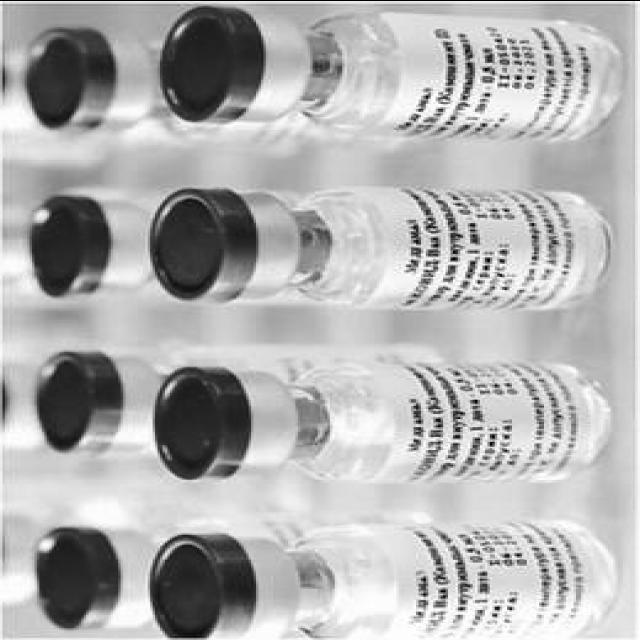vial: (128, 175, 268, 322), (160, 3, 272, 135), (139, 365, 257, 481), (146, 530, 268, 639), (27, 346, 122, 449), (38, 524, 120, 634), (24, 26, 112, 126), (34, 188, 108, 296)
